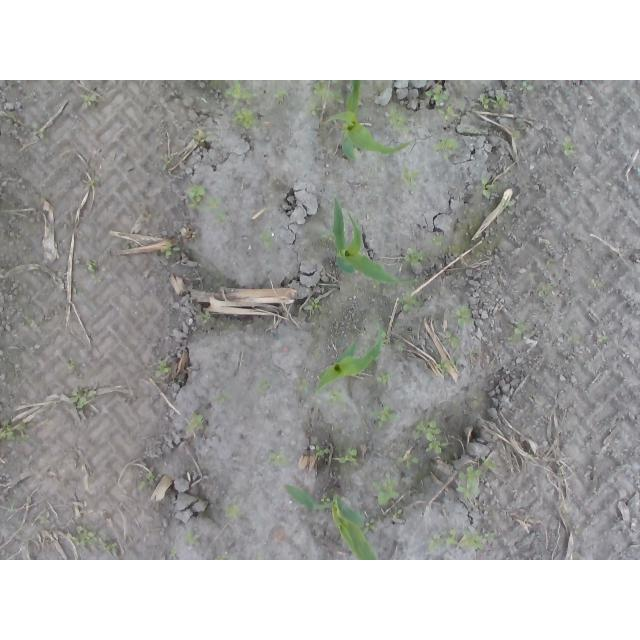Maize: (332, 197, 420, 287), (321, 80, 417, 161), (309, 319, 388, 414), (282, 482, 378, 560)
Weeds: (431, 529, 498, 554), (188, 185, 228, 225), (456, 461, 497, 499), (314, 82, 344, 117), (417, 422, 443, 454), (479, 93, 514, 115), (74, 528, 110, 549), (375, 477, 398, 509), (225, 81, 252, 105), (229, 107, 256, 130), (0, 418, 26, 441), (387, 109, 409, 135), (72, 388, 97, 410), (371, 407, 398, 427), (425, 85, 450, 105), (437, 137, 459, 158), (454, 304, 472, 329), (269, 450, 288, 468), (335, 451, 357, 466), (402, 171, 419, 190), (404, 252, 424, 268), (186, 413, 202, 433), (479, 178, 494, 198), (329, 389, 349, 403), (274, 86, 290, 103), (402, 296, 418, 313), (192, 133, 219, 143), (445, 331, 459, 349), (141, 474, 155, 491), (156, 361, 169, 379), (563, 137, 575, 156), (165, 243, 180, 258), (538, 283, 554, 297), (306, 300, 323, 313), (399, 457, 419, 468), (317, 444, 331, 458), (262, 231, 275, 246), (186, 534, 202, 546), (435, 361, 449, 374), (216, 392, 228, 407), (260, 378, 274, 390), (379, 373, 391, 386), (440, 106, 453, 118), (83, 95, 97, 105), (521, 82, 535, 91), (297, 381, 308, 392), (87, 258, 96, 271), (225, 508, 238, 517), (514, 324, 522, 337), (432, 235, 442, 244), (593, 280, 604, 288), (600, 334, 609, 342)
